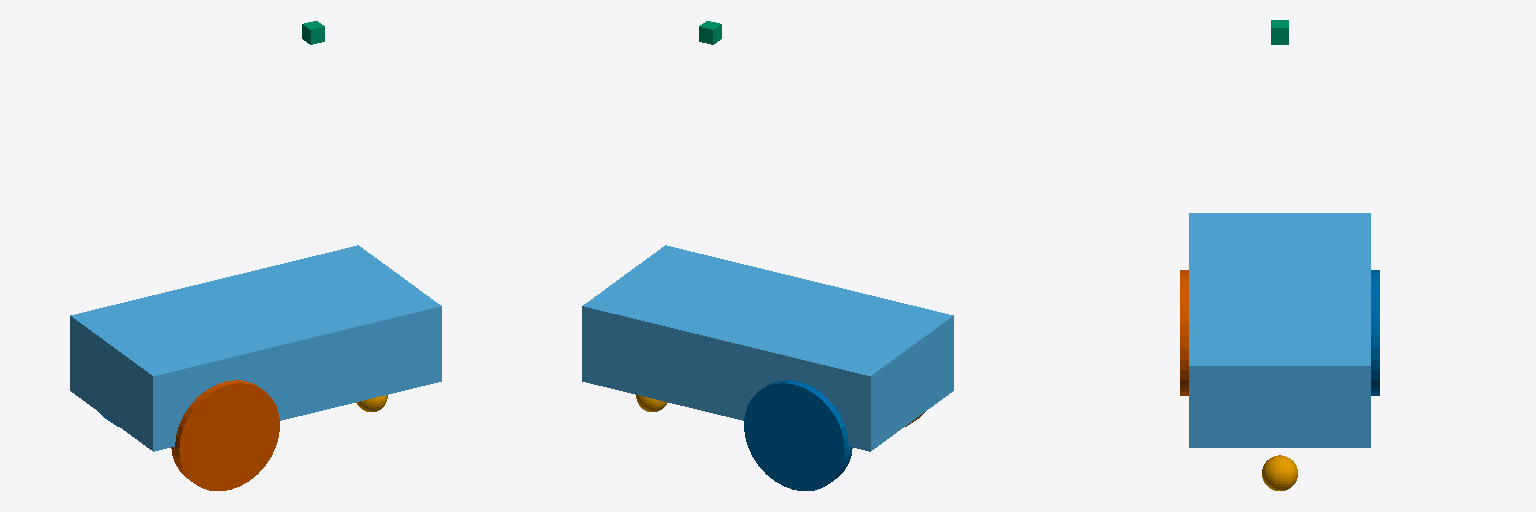
robot.urdf — imlbot:
<?xml version="1.0" ?>
<!-- =================================================================================== -->
<!-- |    This document was autogenerated by xacro from box_bot.xacro                  | -->
<!-- |    EDITING THIS FILE BY HAND IS NOT RECOMMENDED                                 | -->
<!-- =================================================================================== -->
<robot name="imlbot">
  <material name="black">
    <color rgba="0.0 0.0 0.0 1.0"/>
  </material>
  <material name="blue">
    <color rgba="0.203125 0.23828125 0.28515625 1.0"/>
  </material>
  <material name="green">
    <color rgba="0.0 0.8 0.0 1.0"/>
  </material>
  <material name="grey">
    <color rgba="0.2 0.2 0.2 1.0"/>
  </material>
  <material name="orange">
    <color rgba="1.0 0.423529411765 0.0392156862745 1.0"/>
  </material>
  <material name="brown">
    <color rgba="0.870588235294 0.811764705882 0.764705882353 1.0"/>
  </material>
  <material name="red">
    <color rgba="0.80078125 0.12890625 0.1328125 1.0"/>
  </material>
  <material name="white">
    <color rgba="1.0 1.0 1.0 1.0"/>
  </material>
  <gazebo reference="chassis">
    <material>Gazebo/Blue</material>
  </gazebo>
  <gazebo reference="left_wheel">
    <kp>1000.0</kp>
    <kd>1000.0</kd>
    <mu1>0.5</mu1>
    <mu2>0.5</mu2>
    <material>Gazebo/Blue</material>
  </gazebo>
  <gazebo reference="right_wheel">
    <kp>1000.0</kp>
    <kd>1000.0</kd>
    <mu1>0.5</mu1>
    <mu2>0.5</mu2>
    <material>Gazebo/Blue</material>
  </gazebo>
  <!-- ros_control plugin -->
  <gazebo>
    <plugin filename="libgazebo_ros_control.so" name="gazebo_ros_control">
      <robotNamespace>/imlbot</robotNamespace>
      <robotParam>/robot_description</robotParam>
      <robotSimType>gazebo_ros_control/DefaultRobotHWSim</robotSimType>
    </plugin>
  </gazebo>
  <gazebo>
    <plugin filename="libgazebo_ros_diff_drive.so" name="differential_drive_controller">

      <ros>
        <namespace>/imlbot</namespace>
      </ros>

      <!-- wheels -->
      <left_joint>joint_right_wheel</left_joint>
      <right_joint>joint_left_wheel</right_joint>

      <!-- kinematics -->
      <wheel_separation>0.1</wheel_separation>
      <wheel_diameter>0.025</wheel_diameter>

      <!-- limits -->
      <max_wheel_torque>0.1</max_wheel_torque>
      <max_wheel_acceleration>1.0</max_wheel_acceleration>

      <!-- output -->
      <publish_odom>true</publish_odom>
      <publish_odom_tf>true</publish_odom_tf>

      <odometry_frame>odom</odometry_frame>
      <robot_base_frame>chassis</robot_base_frame>


    </plugin>
  </gazebo>
  <!-- imu -->
  <gazebo>
    <plugin filename="libgazebo_ros_imu.so" name="gazebo_ros_imu_controller">
      <robotNamespace>/imlbot/</robotNamespace>
      <topicName>imu/data3</topicName>
      <serviceName>imu/service</serviceName>
      <bodyName>chassis</bodyName>
      <gaussianNoise>0</gaussianNoise>
      <rpyOffsets>0 0 0</rpyOffsets>
      <updateRate>50.0</updateRate>
      <alwaysOn>true</alwaysOn>
      <gaussianNoise>0</gaussianNoise>
    </plugin>
  </gazebo>

  <link name="base_link">
      </link>
  <link name="chassis">
    <!-- pose and inertial -->
    <pose>0 0 0 0 0 0</pose>
    <inertial>
      <mass value="1.0"/>
      <origin rpy="0 0 0" xyz="0 0 -0.025"/>
      <inertia ixx="0.00033333333333333343" ixy="0" ixz="0" iyy="0.00033333333333333343" iyz="0" izz="0.00033333333333333343"/>
      <inertia ixx="0.000241935" ixy="0" ixz="0" iyy="0.000241935" iyz="0" izz="0.000241935"/>
    </inertial>
    <!-- body -->
    <collision name="collision_chassis">
      <geometry>
        <box size="0.2 0.1 0.05"/>
      </geometry>
    </collision>
    <visual name="visual_chassis">
      <geometry>
        <box size="0.2 0.1 0.05"/>
      </geometry>
    </visual>
  </link>
  <gazebo reference="chassis">
    <material>Gazebo/Red</material>
  </gazebo>
  <joint name="base_link_joint" type="fixed">
    <origin rpy="0 0 0" xyz="0 0 0"/>
    <parent link="base_link"/>
    <child link="chassis"/>
  </joint>


  <!-- CAMERA-->
  <link name='rgb_cam_camera_link'>
		<visual>
			<origin xyz="0 0 0" rpy="0 0 0"/>
			<geometry>
				<box size="0.01 0.01 0.01"/>
			</geometry>
		</visual>
	</link>

  <joint name="rgb_cam_camera_link_joint" type="fixed">
		<origin rpy="0 0 0" xyz="0.04 0.0 0.2"/>
		<parent link="chassis"/>
		<child link="rgb_cam_camera_link"/>
	</joint>


    <link name="rgb_cam_camera_link_frame">
    </link>

    <joint name="rgb_cam_camera_frame_joint" type="fixed">
        <origin xyz="0.01 0 0" rpy="0 0 0" />
        <parent link="rgb_cam_camera_link" />
        <child link="rgb_cam_camera_link_frame" />
        <axis xyz="0 0 0"/>
    </joint>

    <gazebo reference="rgb_cam_camera_link_frame">
      <sensor type="camera" name="rgb_cam">
        <always_on>1</always_on>
        <update_rate>10.0</update_rate>
        <camera name="rgb_cam">
            <pose>0 0 0 0 0 0</pose>
            <horizontal_fov>1.3962634</horizontal_fov>
            <image>
             <width>640</width>
             <height>480</height>
             <format>R8G8B8</format>
            </image>
            <clip>
                <near>0.005</near>
                <far>20.0</far>
            </clip>
        </camera>
        <plugin name="camera_controller" filename="libgazebo_ros_camera.so">
            <alwaysOn>true</alwaysOn>
            <updateRate>0.0</updateRate>
            <cameraName>rgb_cam</cameraName>
            <imageTopicName>image_raw</imageTopicName>
            <cameraInfoTopicName>camera_info</cameraInfoTopicName>
            <frameName>rgb_cam_camera_link_frame</frameName>
            <hackBaseline>0.07</hackBaseline>
            <distortionK1>0.0</distortionK1>
            <distortionK2>0.0</distortionK2>
            <distortionK3>0.0</distortionK3>
            <distortionT1>0.0</distortionT1>
            <distortionT2>0.0</distortionT2>
        </plugin>
      </sensor>
    </gazebo>



  <link name="right_wheel">
    <inertial>
      <mass value="0.2"/>
      <origin rpy="0 1.5707 1.5707" xyz="0 0 0"/>
      <inertia ixx="3.126666666666667e-05" ixy="0" ixz="0" iyy="3.126666666666667e-05" iyz="0" izz="6.250000000000001e-05"/>
    </inertial>
    <collision name="link_right_wheel_collision">
      <origin rpy="0 1.5707 1.5707" xyz="0 0 0"/>
      <geometry>
        <cylinder length="0.01" radius="0.035"/>
      </geometry>
    </collision>
    <visual name="link_right_wheel_visual">
      <origin rpy="0 1.5707 1.5707" xyz="0 0 0"/>
      <geometry>
        <cylinder length="0.01" radius="0.035"/>
      </geometry>
    </visual>
  </link>
  <joint name="joint_right_wheel" type="continuous">
    <origin rpy="0 0 0" xyz="-0.05 0.05 -0.025"/>
    <child link="right_wheel"/>
    <parent link="chassis"/>
    <axis rpy="0 0 0" xyz="0 1 0"/>
    <limit effort="10000" velocity="1000"/>
    <joint_properties damping="1.0" friction="1.0"/>
  </joint>
  <link name="left_wheel">
    <inertial>
      <mass value="0.2"/>
      <origin rpy="0 1.5707 1.5707" xyz="0 0 0"/>
      <inertia ixx="3.126666666666667e-05" ixy="0" ixz="0" iyy="3.126666666666667e-05" iyz="0" izz="6.250000000000001e-05"/>
    </inertial>
    <collision name="link_right_wheel_collision">
      <origin rpy="0 1.5707 1.5707" xyz="0 0 0"/>
      <geometry>
        <cylinder length="0.01" radius="0.035"/>
      </geometry>
    </collision>
    <visual name="link_right_wheel_visual">
      <origin rpy="0 1.5707 1.5707" xyz="0 0 0"/>
      <geometry>
        <cylinder length="0.01" radius="0.035"/>
      </geometry>
    </visual>
  </link>
  <joint name="joint_left_wheel" type="continuous">
    <origin rpy="0 0 0" xyz="-0.05 -0.05 -0.025"/>
    <child link="left_wheel"/>
    <parent link="chassis"/>
    <axis rpy="0 0 0" xyz="0 1 0"/>
    <limit effort="10000" velocity="1000"/>
    <joint_properties damping="1.0" friction="1.0"/>
  </joint>
  <!-- CASTER FRONT-->
  <link name="front_yaw_link">
    <inertial>
      <mass value="0.001"/>
      <origin rpy="0 1.5707 1.5707" xyz="0 0 0"/>
      <inertia ixx="5.145833333333334e-09" ixy="0" ixz="0" iyy="5.145833333333334e-09" iyz="0" izz="1.0125000000000003e-08"/>
    </inertial>
    <collision name="link_right_wheel_collision">
      <origin rpy="0 1.5707 1.5707" xyz="0 0 0"/>
      <geometry>
        <cylinder length="0.001" radius="0.0045000000000000005"/>
      </geometry>
    </collision>
  </link>
  <joint name="front_yaw_joint" type="continuous">
    <origin rpy="0 0 0" xyz="0.08 0 -0.05"/>
    <parent link="chassis"/>
    <child link="front_yaw_link"/>
    <axis xyz="0 0 1"/>
    <limit effort="1000.0" velocity="100.0"/>
    <dynamics damping="0.0" friction="0.1"/>
  </joint>
  <transmission name="front_yaw_joint_trans">
    <type>transmission_interface/SimpleTransmission</type>
    <joint name="front_yaw_joint">
      <hardwareInterface>EffortJointInterface</hardwareInterface>
    </joint>
    <actuator name="front_yaw_jointMotor">
      <hardwareInterface>EffortJointInterface</hardwareInterface>
      <mechanicalReduction>1</mechanicalReduction>
    </actuator>
  </transmission>
  <link name="front_roll_link">
    <inertial>
      <mass value="0.001"/>
      <origin rpy="0 1.5707 1.5707" xyz="0 0 0"/>
      <inertia ixx="5.145833333333334e-09" ixy="0" ixz="0" iyy="5.145833333333334e-09" iyz="0" izz="1.0125000000000003e-08"/>
    </inertial>
    <collision name="link_right_wheel_collision">
      <origin rpy="0 1.5707 1.5707" xyz="0 0 0"/>
      <geometry>
        <cylinder length="0.001" radius="0.0045000000000000005"/>
      </geometry>
    </collision>
  </link>
  <joint name="front_roll_joint" type="continuous">
    <origin rpy="0 0 0" xyz="0 0 0"/>
    <parent link="front_yaw_link"/>
    <child link="front_roll_link"/>
    <axis xyz="1 0 0"/>
    <limit effort="1000.0" velocity="100.0"/>
    <dynamics damping="0.0" friction="0.1"/>
  </joint>
  <transmission name="front_roll_joint_trans">
    <type>transmission_interface/SimpleTransmission</type>
    <joint name="front_roll_joint">
      <hardwareInterface>EffortJointInterface</hardwareInterface>
    </joint>
    <actuator name="front_roll_jointMotor">
      <hardwareInterface>EffortJointInterface</hardwareInterface>
      <mechanicalReduction>1</mechanicalReduction>
    </actuator>
  </transmission>
  <link name="front_pitch_link">
    <inertial>
      <mass value="0.001"/>
      <origin rpy="0 1.5707 1.5707" xyz="0 0 0"/>
      <inertia ixx="4e-08" ixy="0" ixz="0" iyy="4e-08" iyz="0" izz="4e-08"/>
    </inertial>
    <collision name="front_collision">
      <origin rpy="0 1.5707 1.5707" xyz="0 0 0"/>
      <geometry>
        <sphere radius="0.01"/>
      </geometry>
    </collision>
    <visual name="front_visual">
      <origin rpy="0 1.5707 1.5707" xyz="0 0 0"/>
      <geometry>
        <sphere radius="0.01"/>
      </geometry>
    </visual>
  </link>
  <joint name="front_pitch_joint" type="continuous">
    <origin rpy="0 0 0" xyz="0 0 0"/>
    <parent link="front_roll_link"/>
    <child link="front_pitch_link"/>
    <axis xyz="0 1 0"/>
    <limit effort="1000.0" velocity="100.0"/>
    <dynamics damping="0.0" friction="0.1"/>
  </joint>
  <transmission name="front_pitch_joint_trans">
    <type>transmission_interface/SimpleTransmission</type>
    <joint name="front_pitch_joint">
      <hardwareInterface>EffortJointInterface</hardwareInterface>
    </joint>
    <actuator name="front_pitch_jointMotor">
      <hardwareInterface>EffortJointInterface</hardwareInterface>
      <mechanicalReduction>1</mechanicalReduction>
    </actuator>
  </transmission>
  <gazebo reference="front_pitch_link">
    <kp>1000000000000000000000000000.0</kp>
    <kd>1000000000000000000000000000.0</kd>
    <mu1>0.5</mu1>
    <mu2>0.5</mu2>
    <material>Gazebo/Green</material>
  </gazebo>
  
</robot>

--- Facts derived from the render (not from the file) ---
Views: 3 orthographic renders of the robot side by side, from view 1: azimuth 30°, elevation 25°; view 2: azimuth 150°, elevation 25°; view 3: azimuth 270°, elevation 25°.
Robot: imlbot — 9 links, 8 joints (5 continuous, 3 fixed); root link base_link; default pose: every joint at zero.
Links seen in each view (by area): view 1: chassis, left_wheel; view 2: chassis, right_wheel; view 3: chassis, right_wheel, left_wheel, front_pitch_link.
Link boxes in pixels (x1,y1,x2,y2): chassis: [70, 245, 441, 451]; left_wheel: [171, 380, 279, 490]; chassis: [582, 245, 953, 451]; right_wheel: [744, 380, 852, 490]; chassis: [1189, 213, 1370, 447]; right_wheel: [1371, 270, 1379, 395]; left_wheel: [1180, 270, 1188, 395]; front_pitch_link: [1262, 455, 1297, 490].
Size in the robot's own frame: 0.2 by 0.11 by 0.265 metres.
Geometry: primitives only (box / cylinder / sphere), no mesh files.